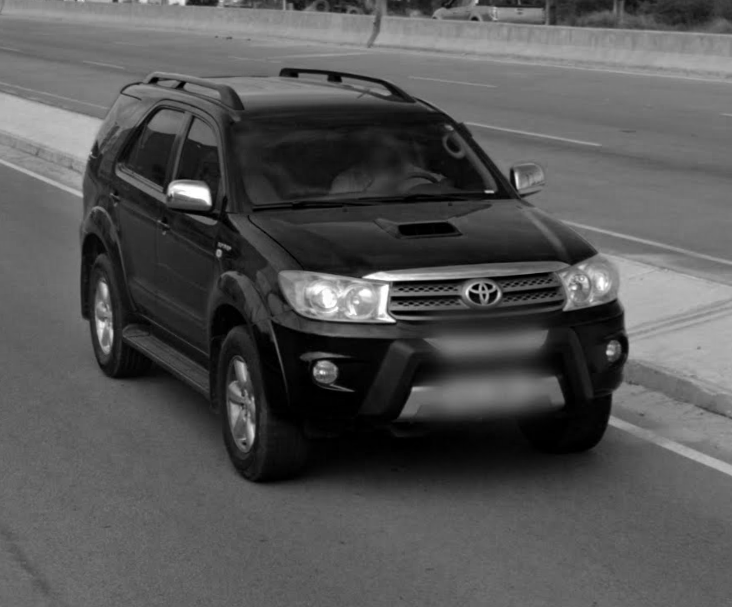car: (74, 65, 633, 485)
